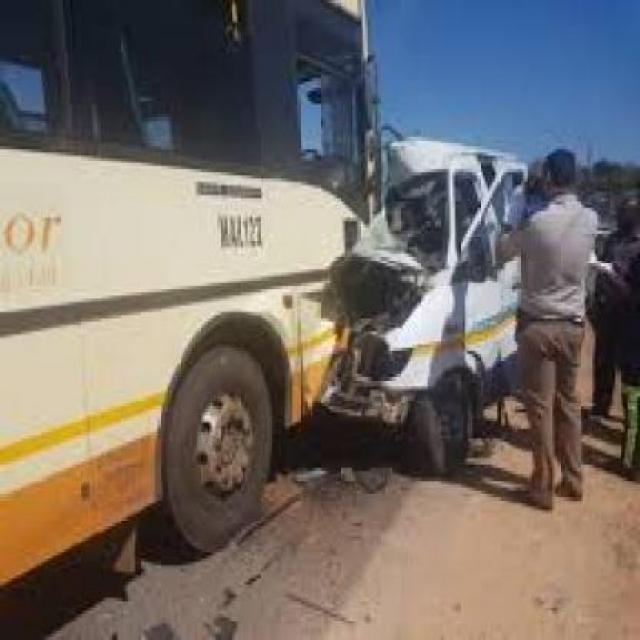accident: (170, 2, 578, 581)
